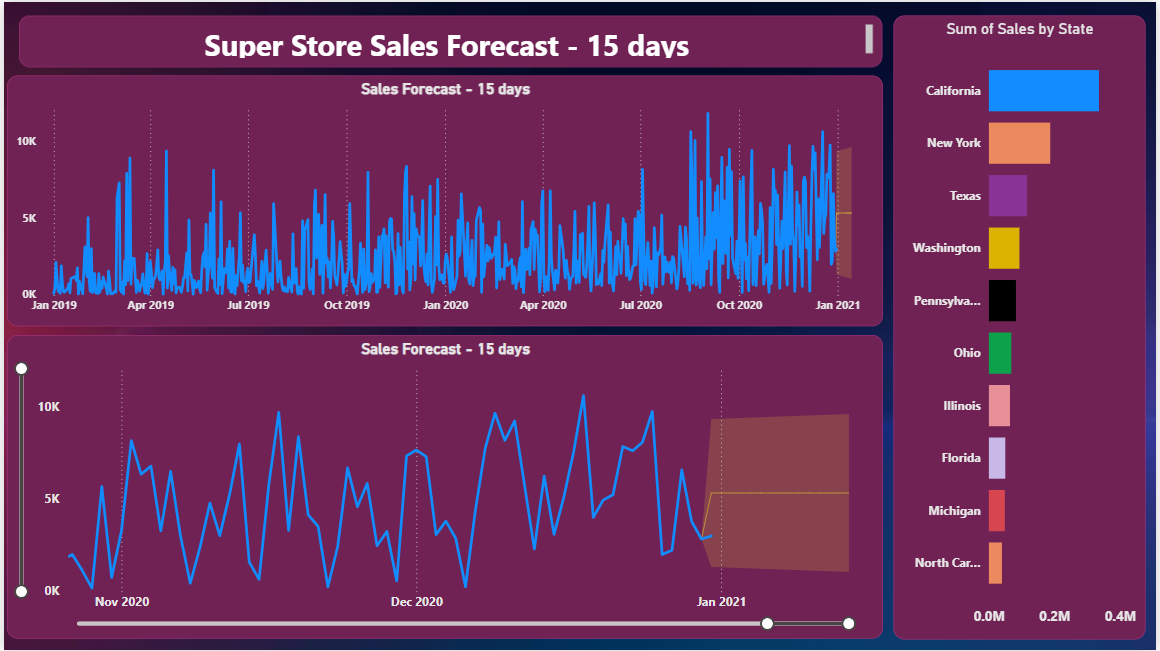

What the dashboard file says about the page in this screenshot:
{"tool":"powerbi","page":{"name":"Page 2","canvas":[1280,720],"ordinal":1},"visuals":[{"type":"lineChart","title":"Sales Forecast - 15 days","fields":{"Y":["Sum(SuperStore_Sales.Sales)"],"Category":["SuperStore_Sales.Order Date"]},"box":[3.2,81.1,973.5,278.4],"z":0},{"type":"lineChart","title":"Sales Forecast - 15 days","fields":{"Y":["Sum(SuperStore_Sales.Sales)"],"Category":["SuperStore_Sales.Order Date"]},"box":[3.2,370.6,973.5,337.2],"z":1000},{"type":"barChart","fields":{"Category":["SuperStore_Sales.State"],"Y":["Sum(SuperStore_Sales.Sales)"]},"box":[987.8,14.3,279.9,693.5],"z":2000},{"type":"textbox","box":[17.5,14.3,959.1,57.3],"z":3000}]}

Visuals, with their boxes in screenshot pixels (x1, y1, x2, y2), scaled from the page's 1280x720 canvas onto the 1160x651 screenshot:
"Sales Forecast - 15 days" lineChart: [x1=3, y1=73, x2=885, y2=325]
"Sales Forecast - 15 days" lineChart: [x1=3, y1=335, x2=885, y2=640]
barChart - SuperStore_Sales.State x Sum(SuperStore_Sales.Sales): [x1=895, y1=13, x2=1149, y2=640]
textbox: [x1=16, y1=13, x2=885, y2=65]
